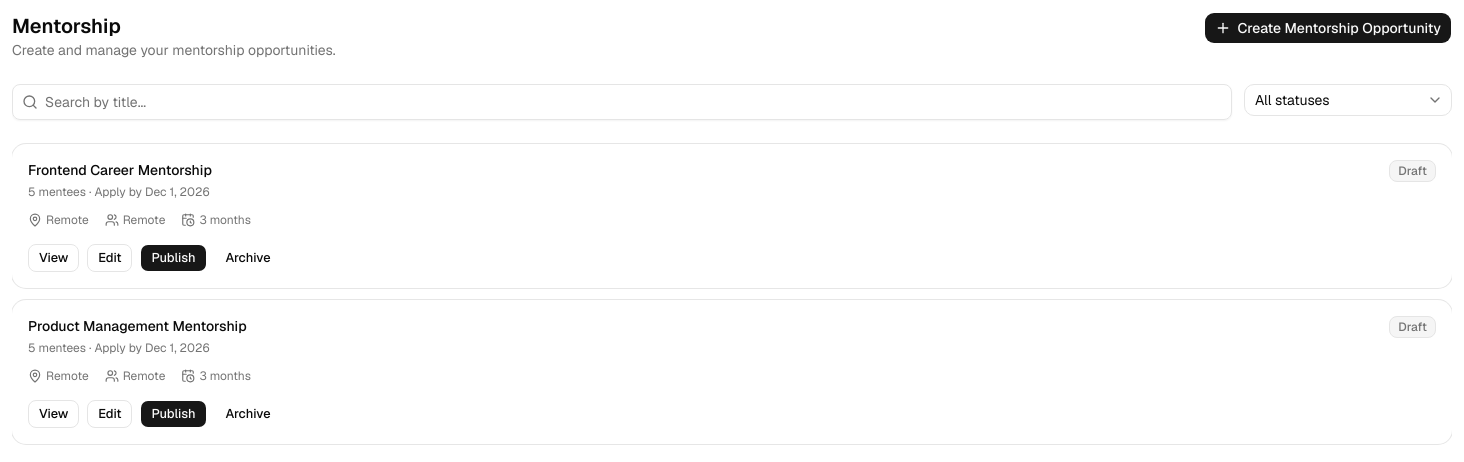
Test case: MentorshipListView › filters by search text
Expected: the link "Frontend Career Mentorship" is shown, [28, 160, 212, 180]
Type "product" into the field named "Search mentorship opportunities" at (622, 102), box [12, 84, 1232, 120]
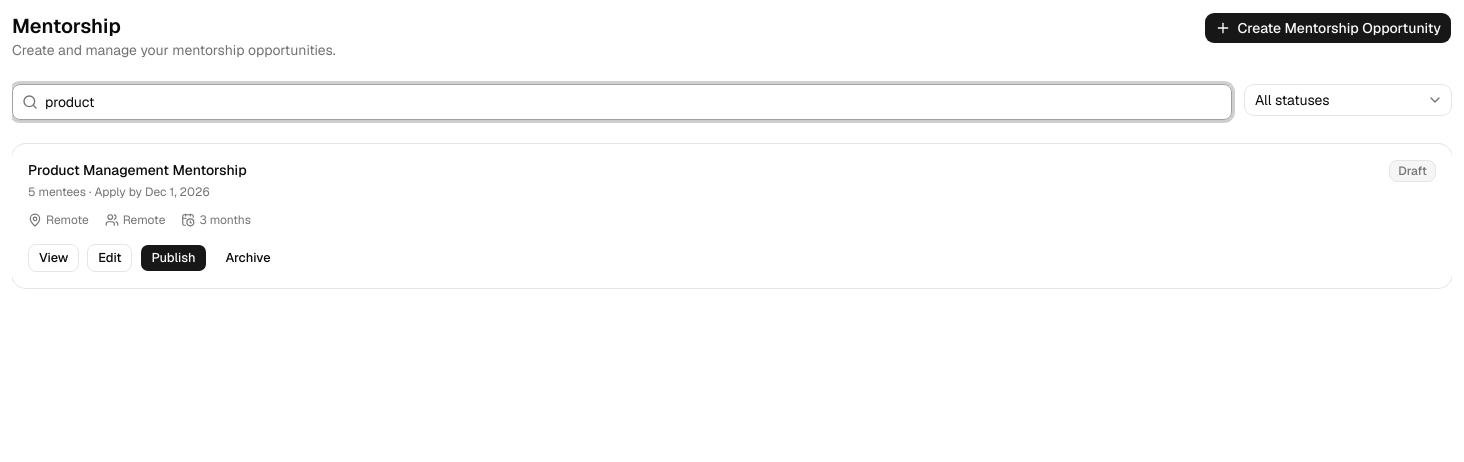
Expected: the link "Product Management Mentorship" is shown, [28, 160, 247, 180]
Expected: the link "Frontend Career Mentorship" is gone
